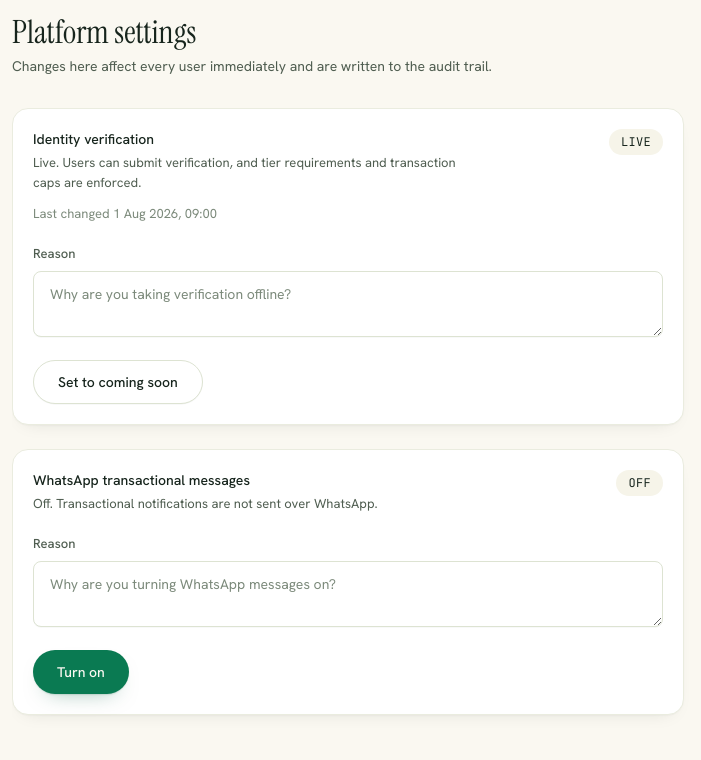
Test: AdminSettingsPage › refuses to change the setting without a reason for the audit trail
This screenshot has width=701, height=760.
What coordinates should you click on to do the following:
click the button "Set to coming soon"
I would click on:
 (118, 382)
Its box is x1=33 y1=360 x2=203 y2=404.
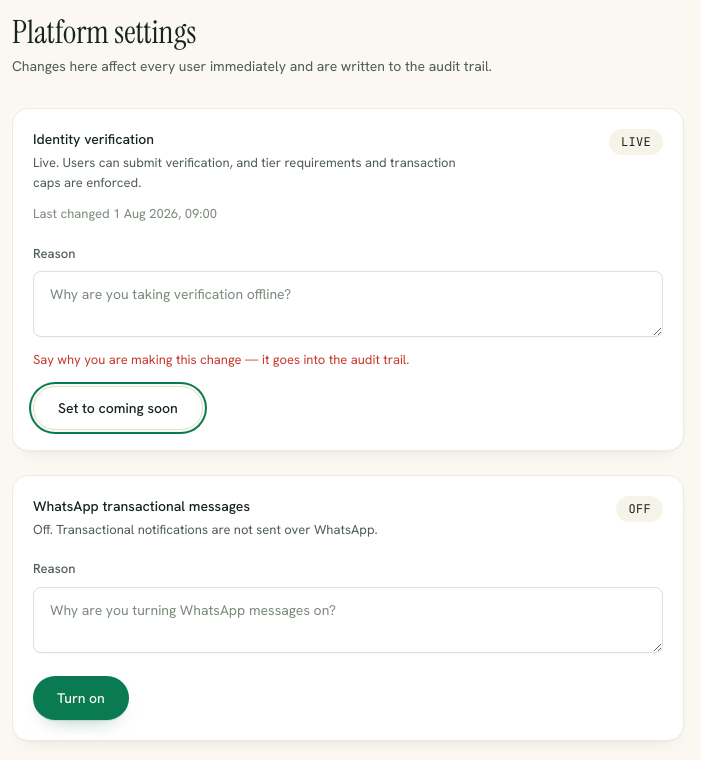
Result: the message shows "Say why you are making this change" at x1=33 y1=351 x2=409 y2=368
